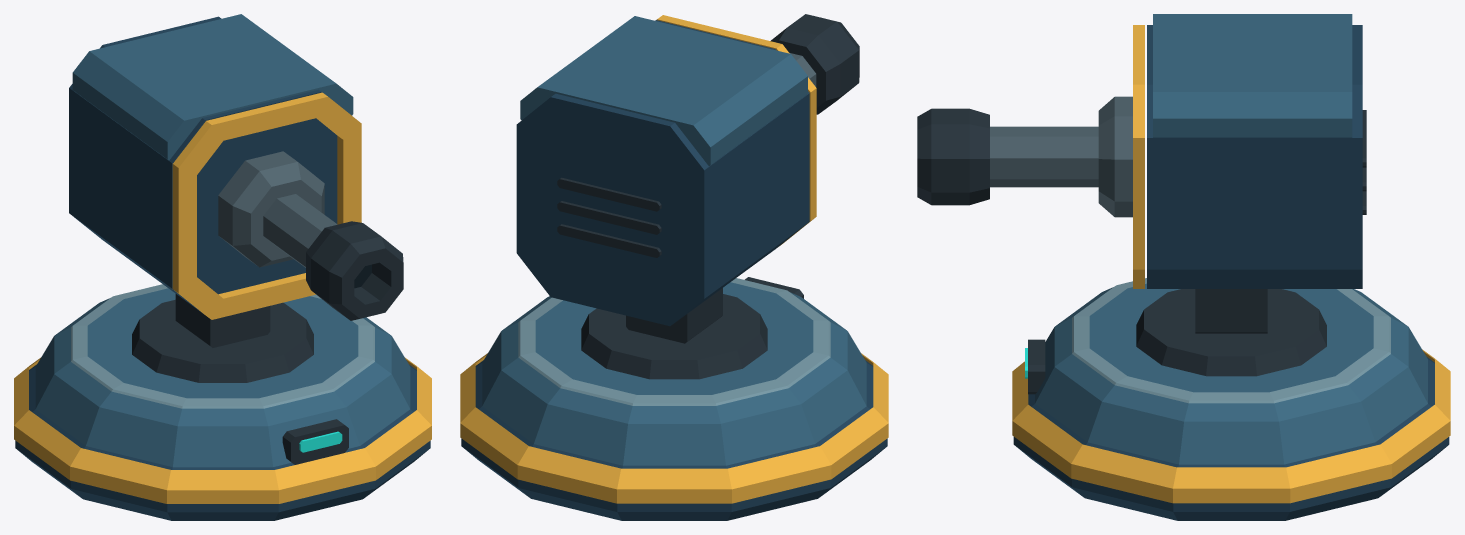
File: Turret.obj
The picture shows the model from 3 angles, left to right: view 1: azimuth 30°, elevation 25°; view 2: azimuth 150°, elevation 25°; view 3: azimuth 270°, elevation 25°; orthographic projection. The views are drawn at different scales.
Visible parts, largest first — view 1: UpperPlinth, Housing, TopArmor, GoldBelt, GoldFaceFrame, Turntable, Foundation, Muzzle, BarrelSocket, TopRim, Barrel, Support (+2 smaller); view 2: Housing, UpperPlinth, TopArmor, GoldBelt, Turntable, Foundation, TopRim, Muzzle, GoldFaceFrame, Support, RearVent2, RearVent1 (+1 smaller); view 3: UpperPlinth, Housing, TopArmor, GoldBelt, Turntable, Foundation, Muzzle, Barrel, TopRim, BarrelSocket, Support, GoldFaceFrame (+1 smaller).
Boxes of the visible parts, <box> form: UpperPlinth: <box>35,288,410,467</box>; Housing: <box>69,16,337,312</box>; TopArmor: <box>72,14,353,160</box>; GoldBelt: <box>14,357,431,503</box>; GoldFaceFrame: <box>172,92,361,319</box>; Turntable: <box>132,299,313,382</box>; Foundation: <box>15,364,430,520</box>; Muzzle: <box>306,221,403,320</box>; BarrelSocket: <box>218,151,324,267</box>; TopRim: <box>71,284,374,408</box>; Barrel: <box>263,194,337,267</box>; Support: <box>175,294,270,347</box>; Housing: <box>516,20,809,326</box>; UpperPlinth: <box>482,282,866,465</box>; TopArmor: <box>520,16,807,165</box>; GoldBelt: <box>460,353,888,503</box>; Turntable: <box>581,294,767,379</box>; Foundation: <box>461,360,887,520</box>; TopRim: <box>518,278,830,405</box>; Muzzle: <box>770,14,859,114</box>; GoldFaceFrame: <box>656,15,816,246</box>; Support: <box>626,288,722,343</box>; RearVent2: <box>557,177,661,211</box>; RearVent1: <box>557,201,661,234</box>; UpperPlinth: <box>1035,283,1427,464</box>; Housing: <box>1147,25,1362,288</box>; TopArmor: <box>1153,14,1352,137</box>; GoldBelt: <box>1012,349,1450,503</box>; Turntable: <box>1136,289,1326,376</box>; Foundation: <box>1013,356,1449,520</box>; Muzzle: <box>917,108,989,205</box>; Barrel: <box>990,126,1098,187</box>; TopRim: <box>1072,278,1390,403</box>; BarrelSocket: <box>1098,96,1132,217</box>; Support: <box>1195,289,1267,333</box>; GoldFaceFrame: <box>1133,25,1144,288</box>.
Size of the model in its own units: 2.18 by 2.1 by 2.65.
